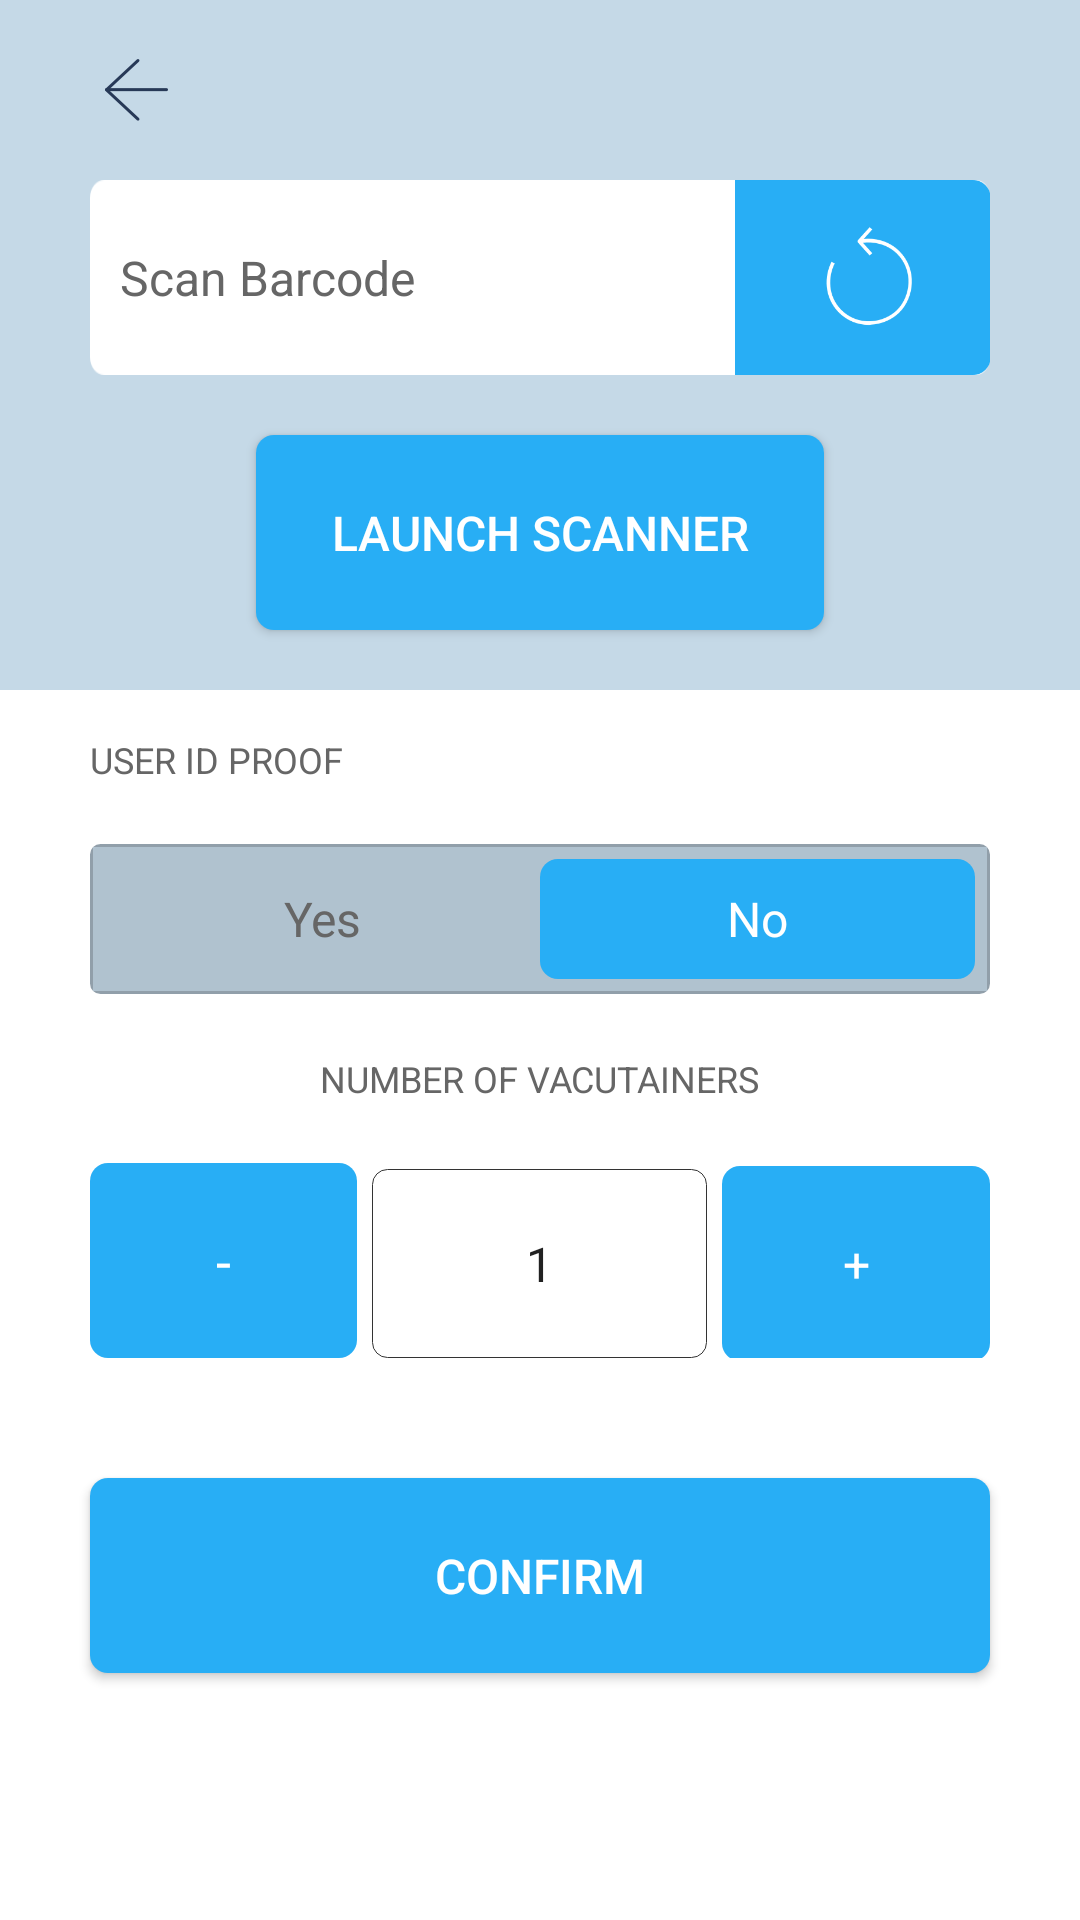

Screen size 1080×1920. Icon name, then its center in pixels as [x,y]:
back: [136,90]
